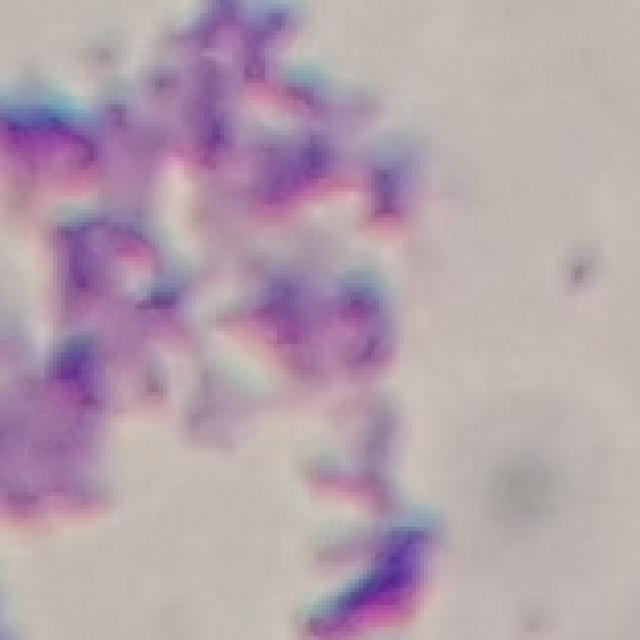non-sperm: (2, 15, 408, 529)
